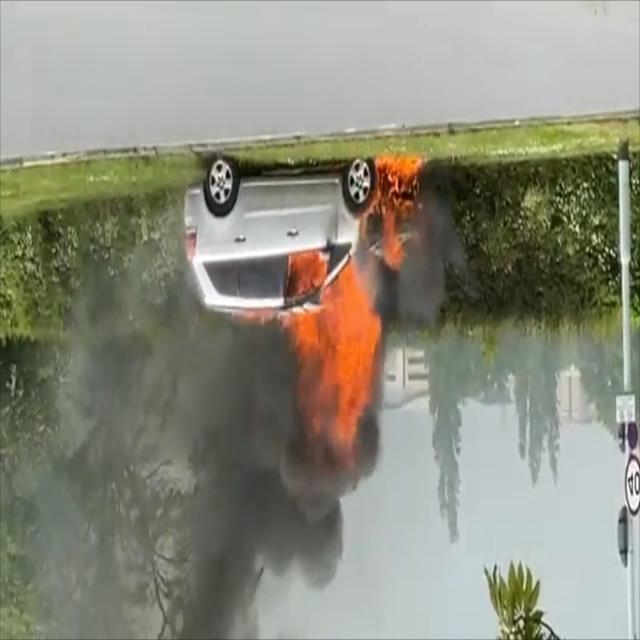fire: (260, 161, 424, 475)
